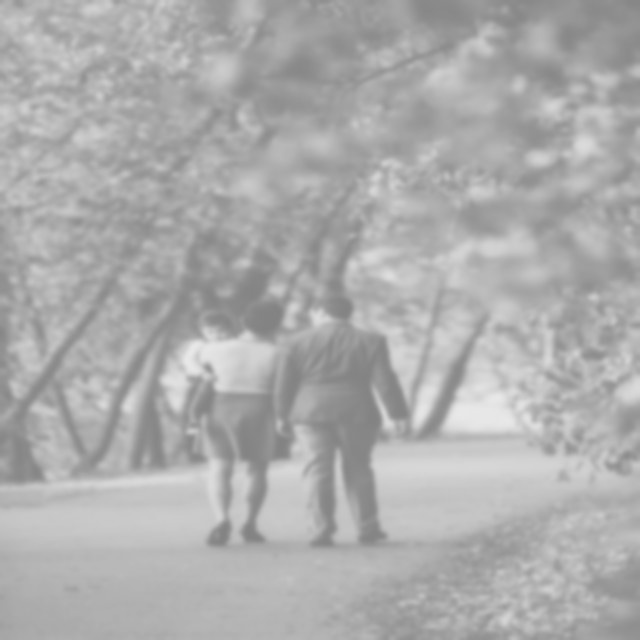pessoa: (269, 293, 415, 550), (188, 297, 302, 548), (180, 310, 240, 434)
